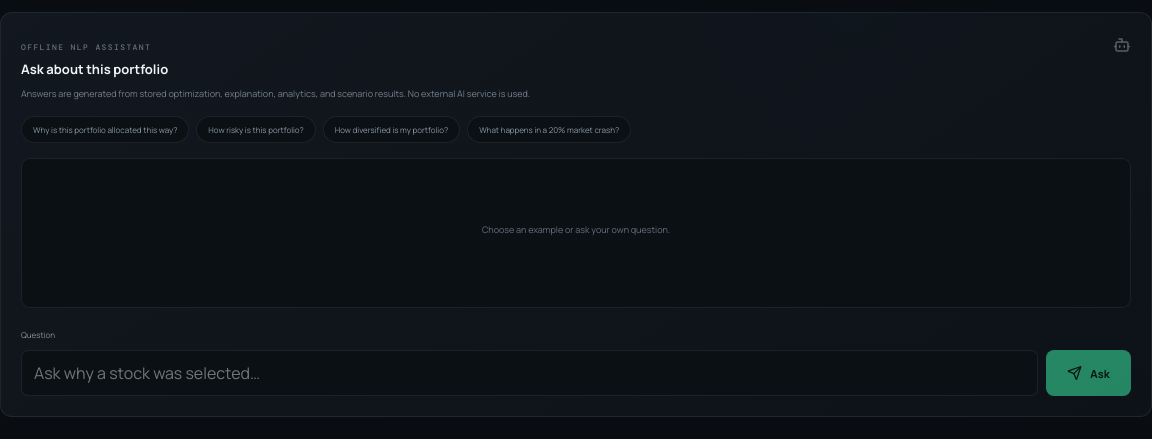
Scenario: AssistantPanel › renders a low-confidence fallback distinctly
Step 1. Type "Tell me a joke" into the field labelled "Question" → (530, 373), box [21, 350, 1038, 396]
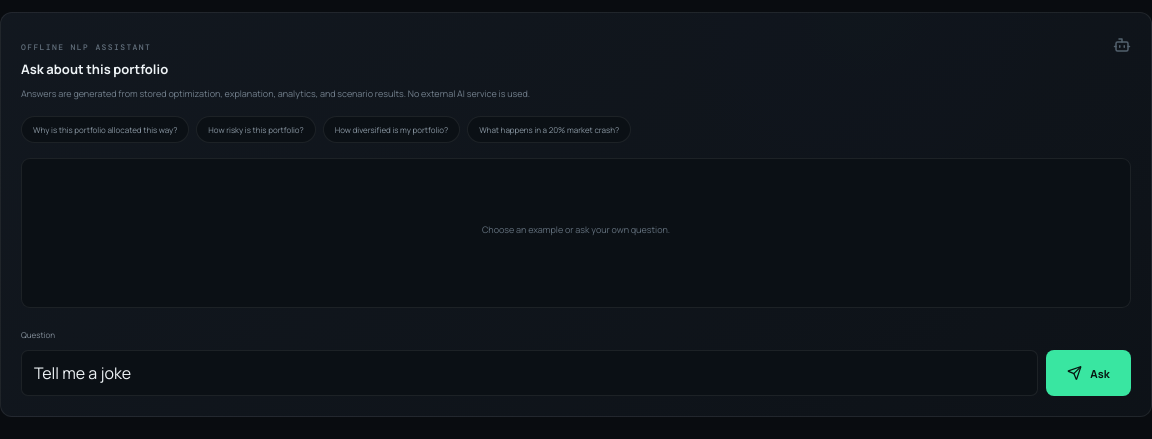
Step 2. Click the button "Ask" → (1088, 373), box [1046, 350, 1131, 396]
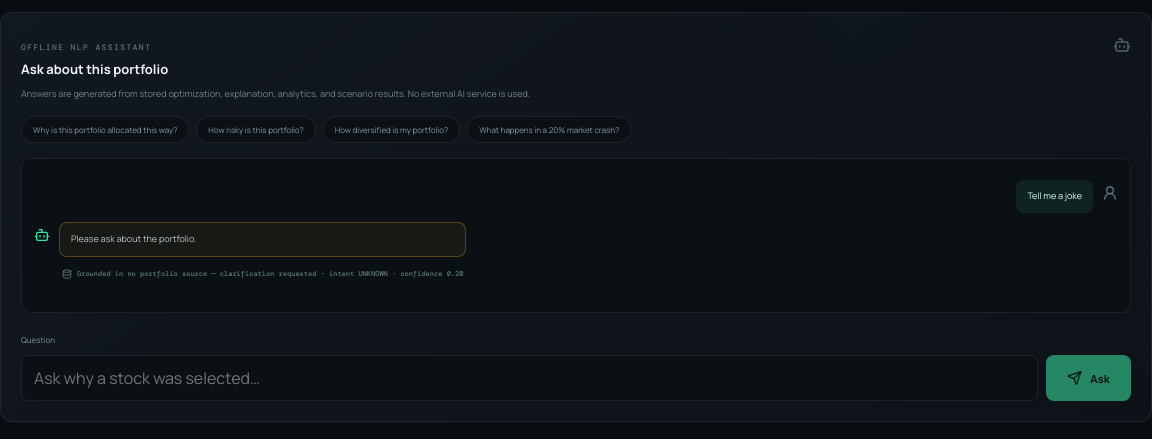
expect the text "Please ask about the portfolio." is shown: met, box [71, 232, 196, 245]
expect the text "clarification requested" is shown: met, box [127, 269, 316, 278]
